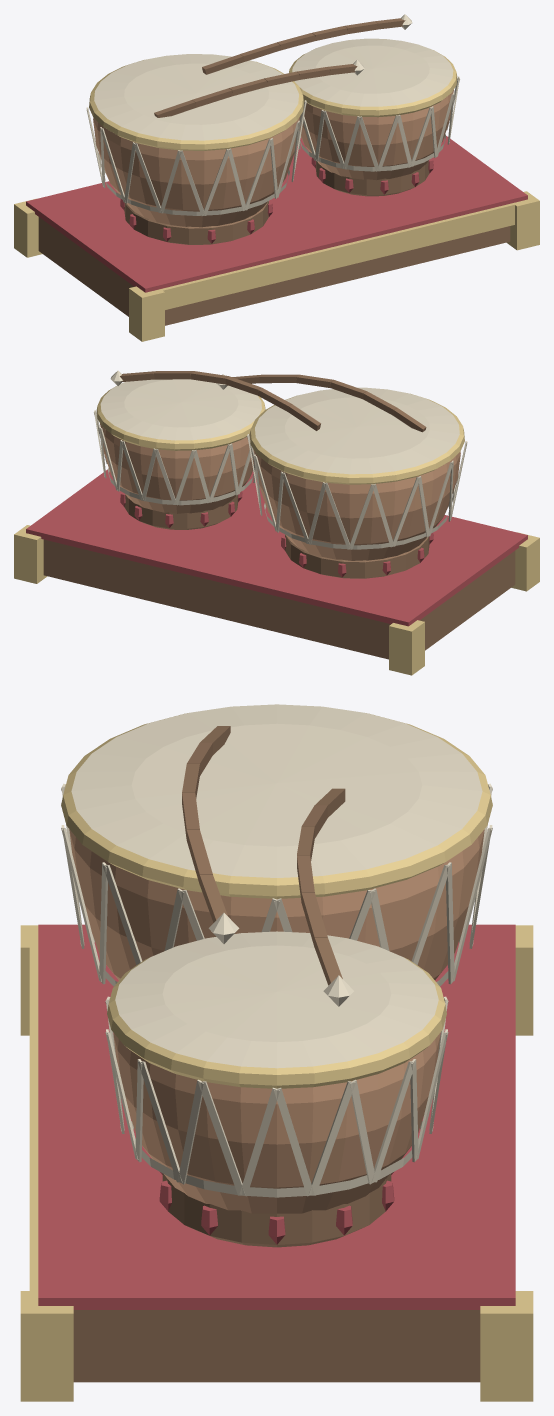
Rendered from kit_naqqara2.glb.
3 views of the same model, one above another, from view 1: azimuth 30°, elevation 25°; view 2: azimuth 150°, elevation 25°; view 3: azimuth 270°, elevation 25° (orthographic). The views are drawn at different scales.
Parts seen in each view (by area): view 1: naqqara2; view 2: naqqara2; view 3: naqqara2.
Part boxes in pixels (x1,y1,x2,y2): naqqara2: (14,14,539,341); naqqara2: (14,370,539,675); naqqara2: (20,704,533,1401).
Bounding box in the file's own units: 2.08 × 0.985 × 1.16.
